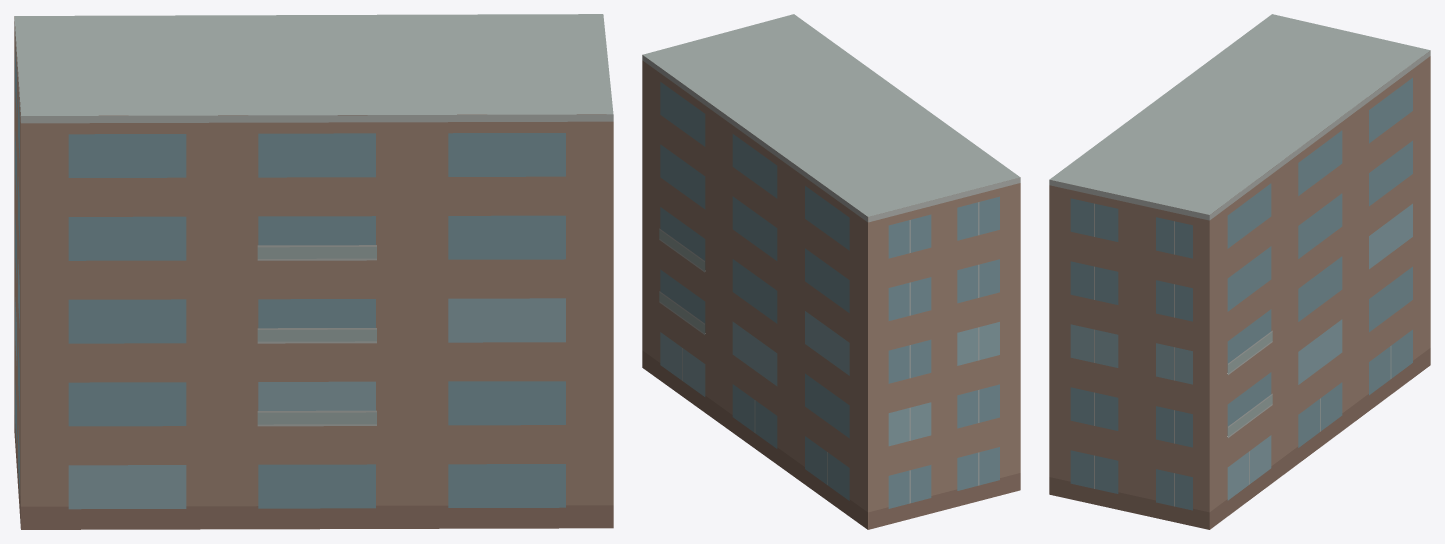
File: survey-upis-32875995.glb
3 views of the same model, side by side, from view 1: azimuth 30°, elevation 25°; view 2: azimuth 150°, elevation 25°; view 3: azimuth 270°, elevation 25° (orthographic). The views are drawn at different scales.
Visible parts, largest first — view 1: survey-upis-32875995.tmp; view 2: survey-upis-32875995.tmp; view 3: survey-upis-32875995.tmp.
Boxes of the visible parts, left/top/right/bottom form: survey-upis-32875995.tmp: left=14, top=14, right=613, bottom=529; survey-upis-32875995.tmp: left=642, top=14, right=1020, bottom=529; survey-upis-32875995.tmp: left=1049, top=14, right=1430, bottom=529.
Bounding box in the file's own units: 18.83 × 13.75 × 15.1.
